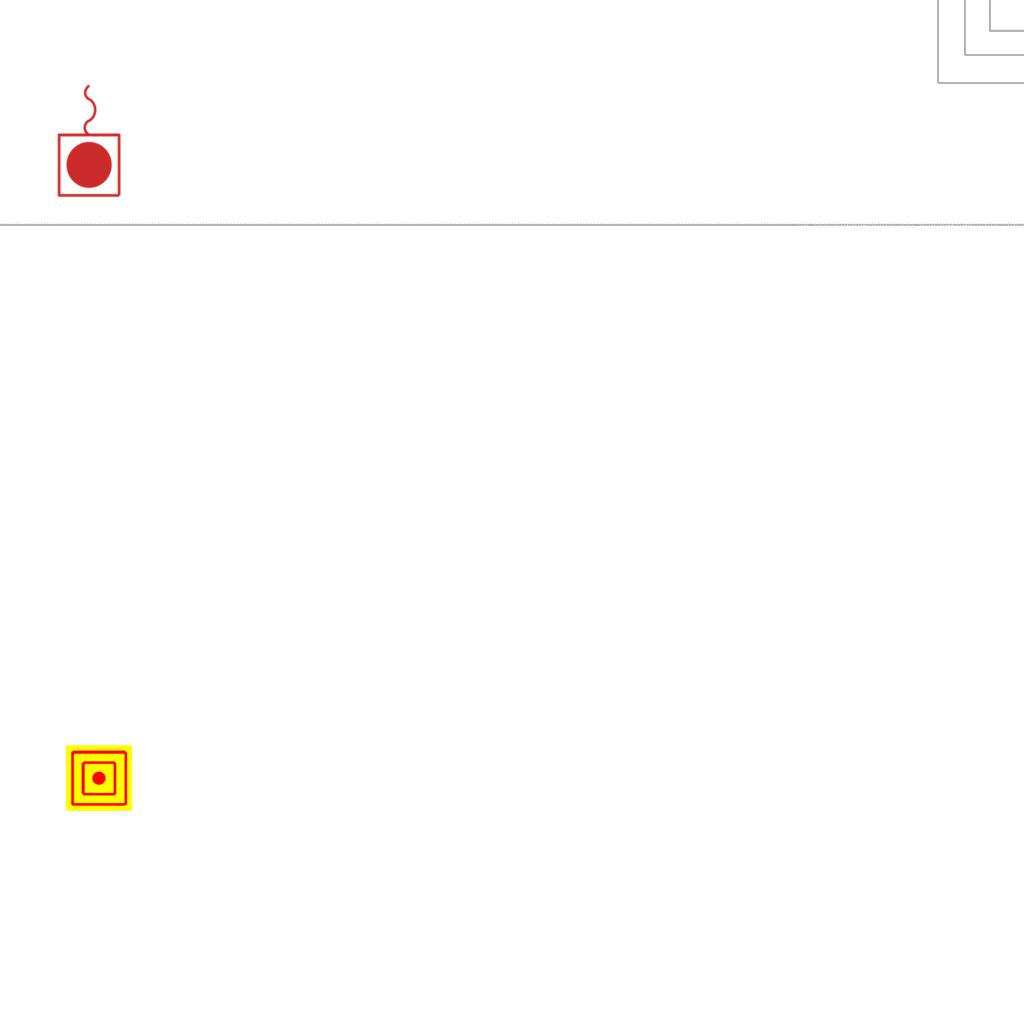NAM-Nichtautomatischer_Melder: (66, 745, 132, 811)
Zugtaster: (54, 79, 126, 201)
